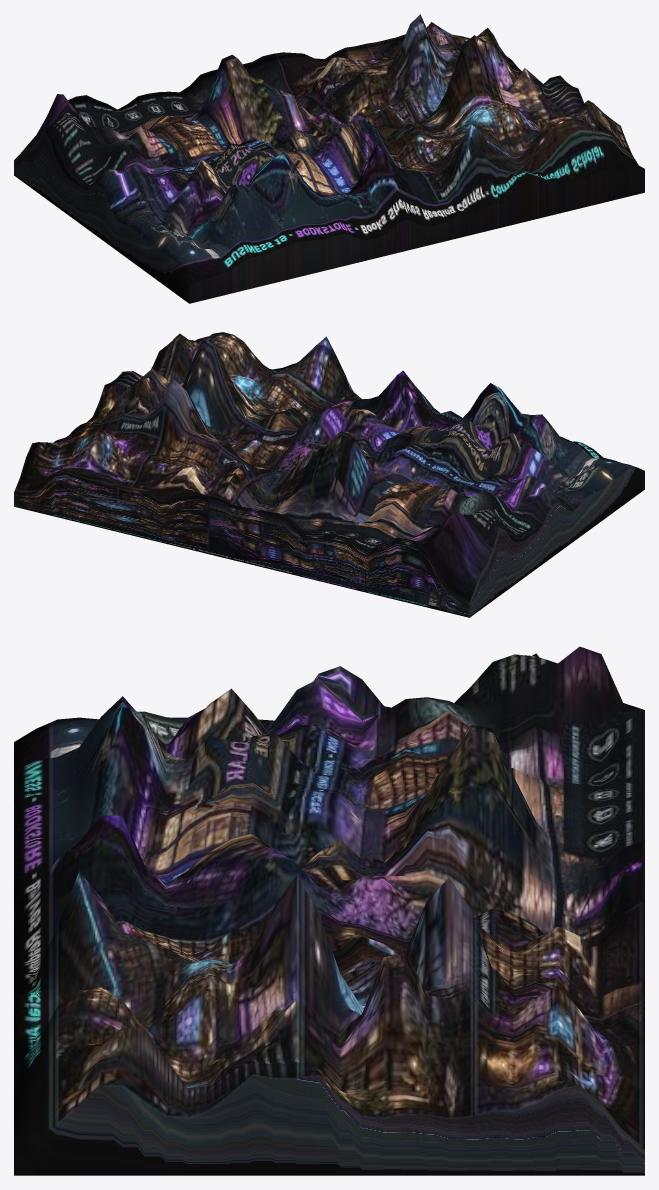
Rendered from BUSINESS_19_Bookstore.glb.
3 views of the same model, one above another, from view 1: azimuth 30°, elevation 25°; view 2: azimuth 150°, elevation 25°; view 3: azimuth 270°, elevation 25° (orthographic). The views are drawn at different scales.
Visible parts, largest first — view 1: BUSINESS_19_Bookstore; view 2: BUSINESS_19_Bookstore; view 3: BUSINESS_19_Bookstore.
Part boxes in pixels (x1,y1,x2,y2): BUSINESS_19_Bookstore: (14, 14, 644, 303); BUSINESS_19_Bookstore: (14, 332, 644, 617); BUSINESS_19_Bookstore: (14, 646, 644, 1175).
Size of the model in its own units: 2 by 0.51 by 1.33.
1 material, 1 textured.
